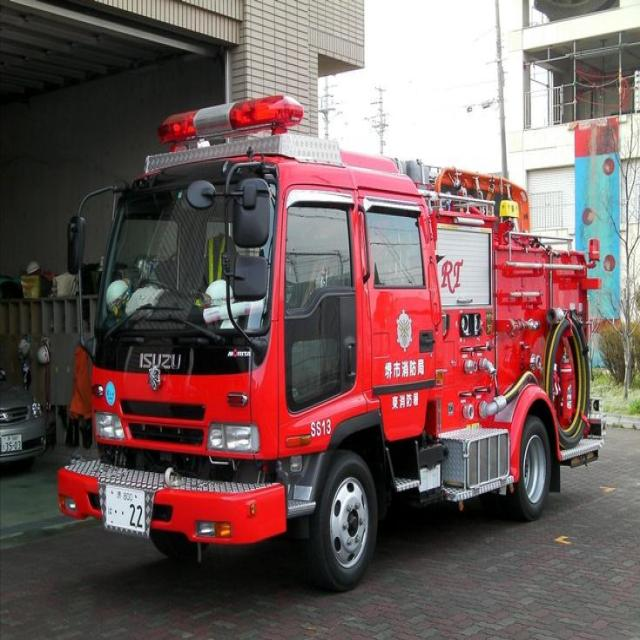Firetruck: (54, 87, 602, 612)
